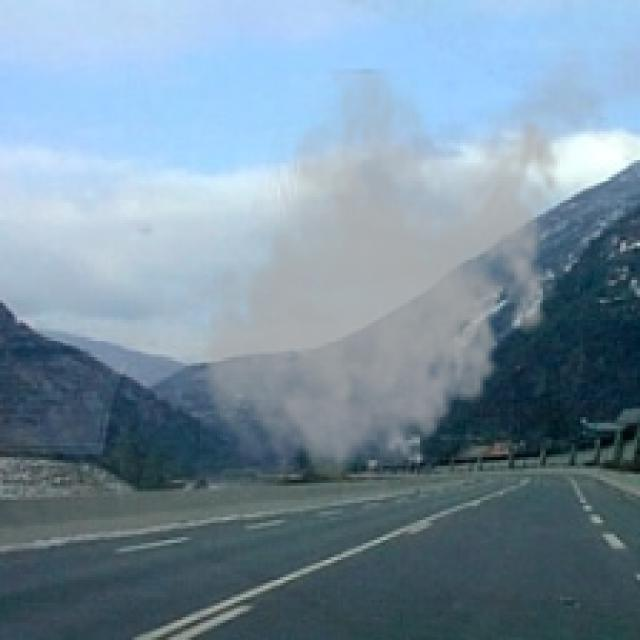smoke: (194, 69, 572, 494)
